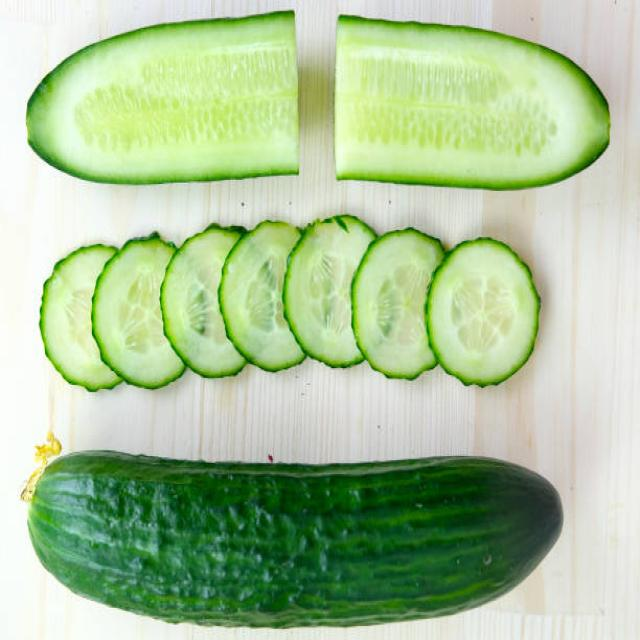cucumber: (28, 446, 562, 631), (335, 16, 610, 193), (26, 8, 297, 185)
